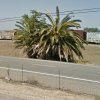Palm tree: (9, 5, 91, 61)
